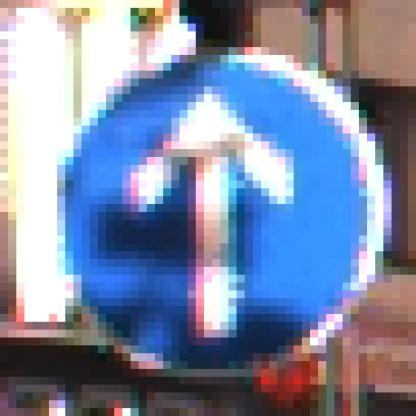AheadOnly: (42, 40, 368, 370)
